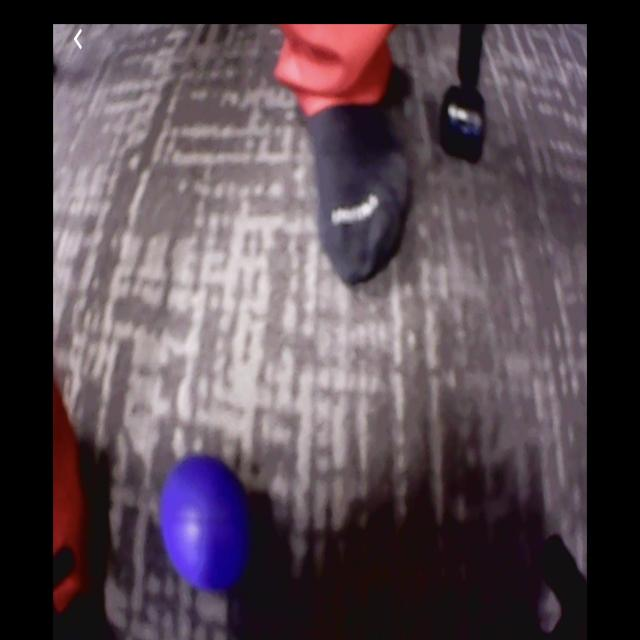ball: (160, 454, 253, 594)
